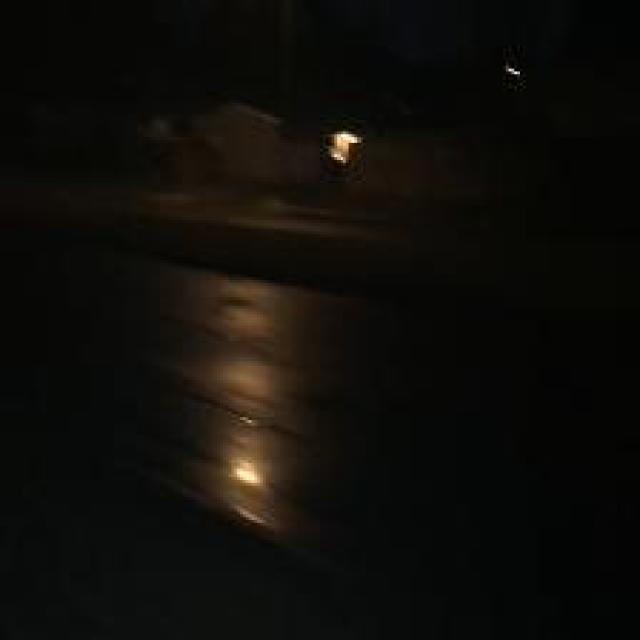other: (202, 430, 276, 512), (313, 114, 390, 170)
